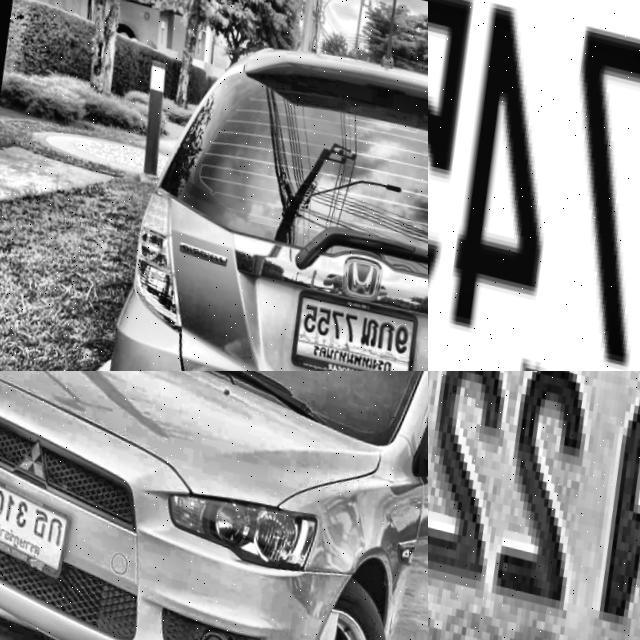license-plate: (428, 0, 640, 371), (428, 371, 640, 640), (284, 274, 421, 371), (0, 462, 79, 581)
